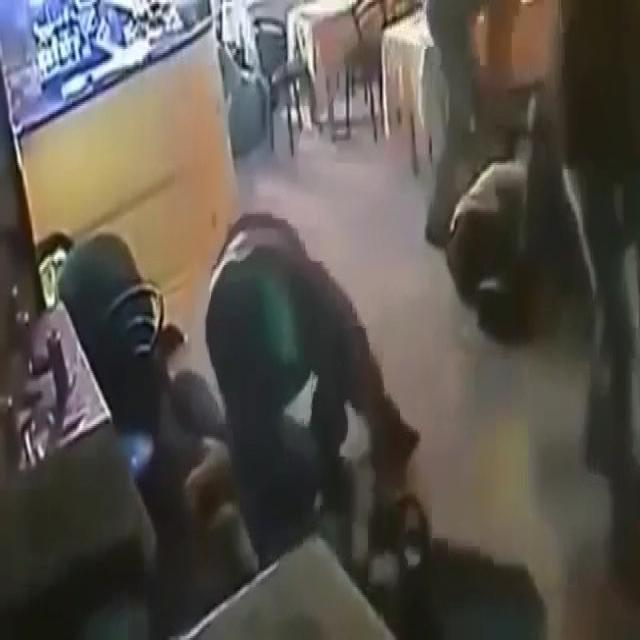fight: (142, 157, 439, 640)
